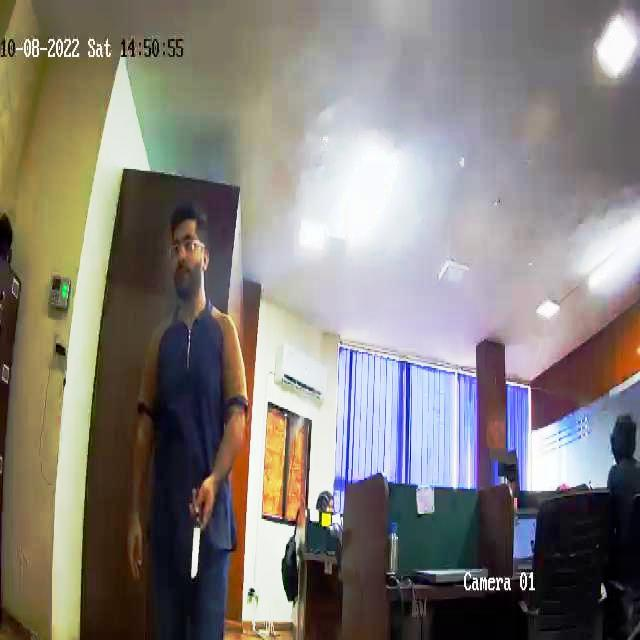Knife: (176, 474, 222, 592)
